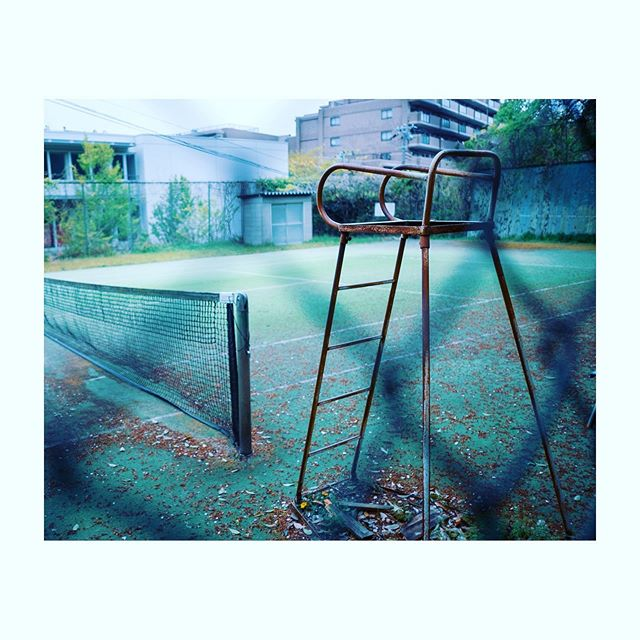building: (42, 96, 312, 251), (296, 97, 496, 181)
chair: (299, 164, 566, 538)
